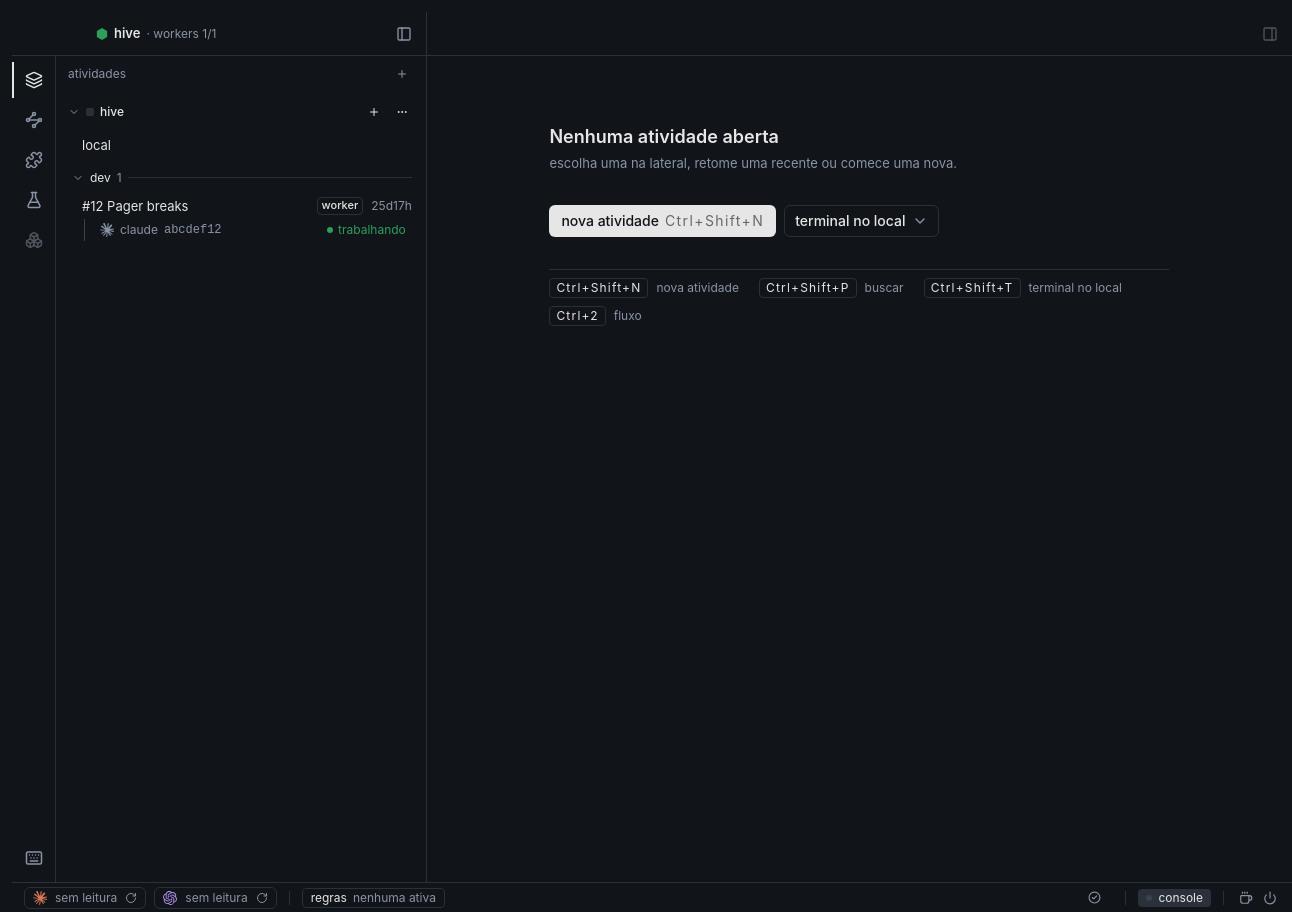
Test: the flow on hive → a repository's issue whose task is roadmap's: back reads fluxo · todas and shows every source, so the task is in it (#380)
Click the button named "fluxo".
click(34, 120)  # box [12,102,56,138]
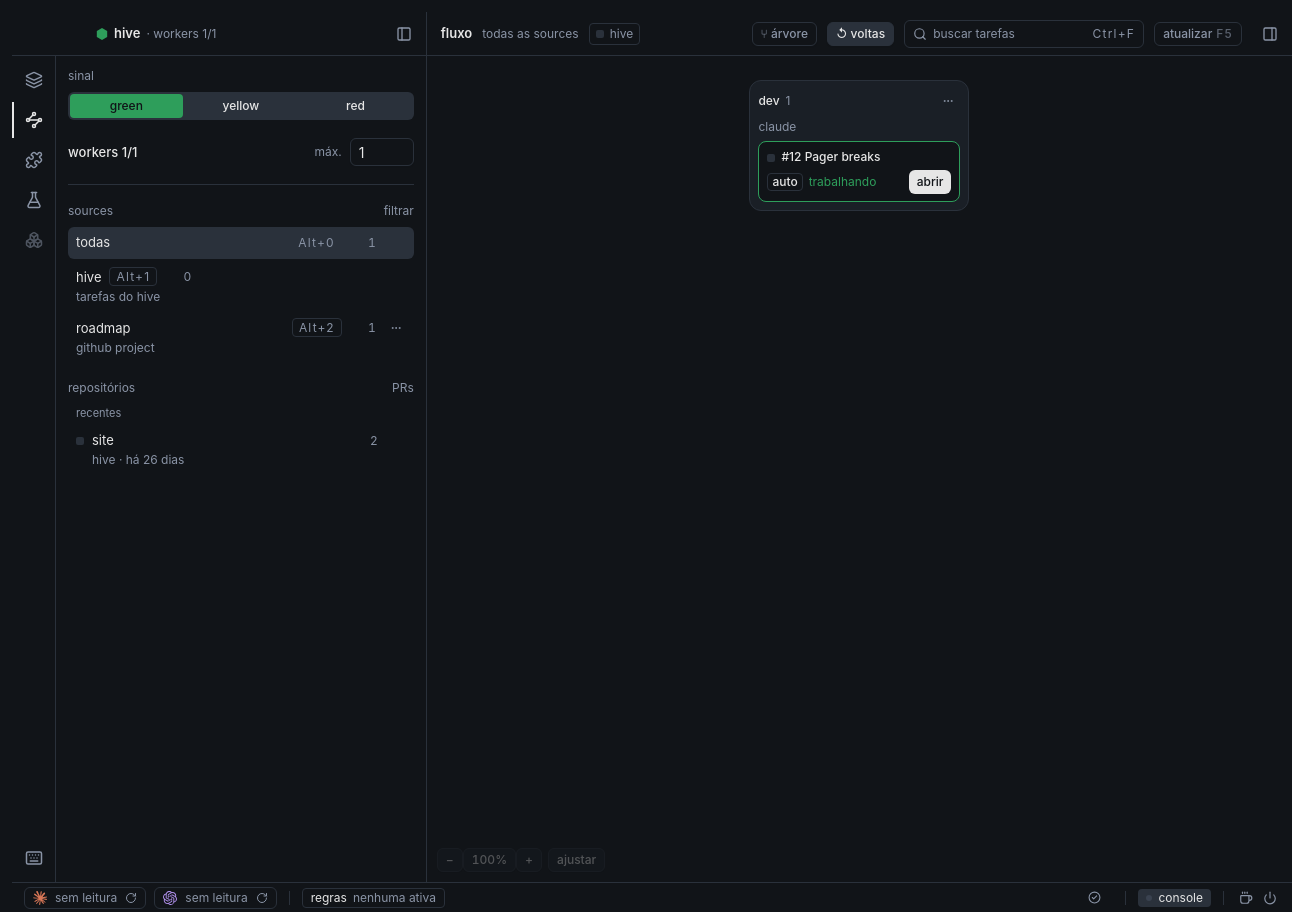
Click the button "hive Alt+1 0 tarefas do hive".
click(133, 276)  # box [68,261,414,311]
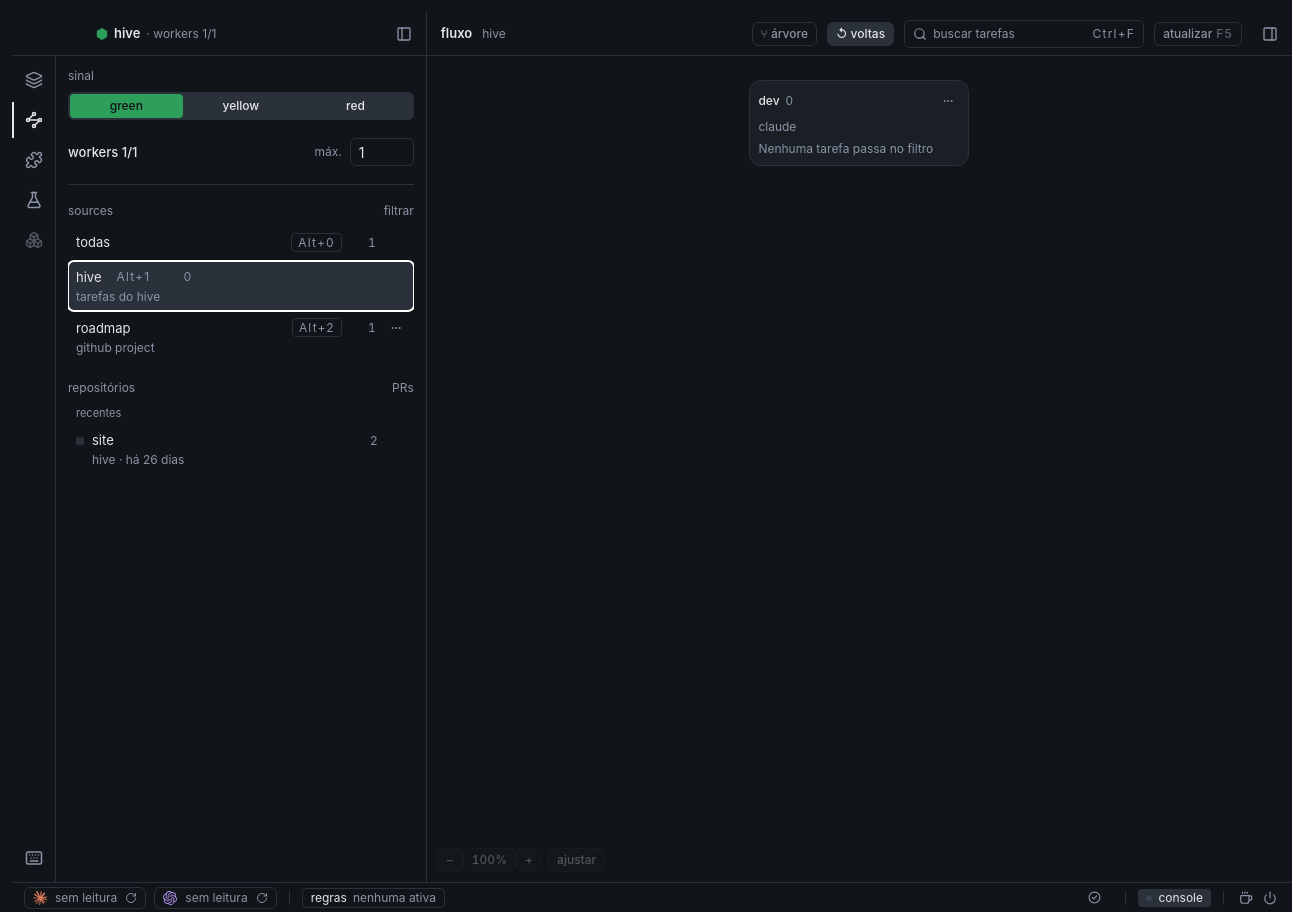
Click the button "site 2 hive · há 26 dias".
click(138, 459)  # box [68,425,414,474]
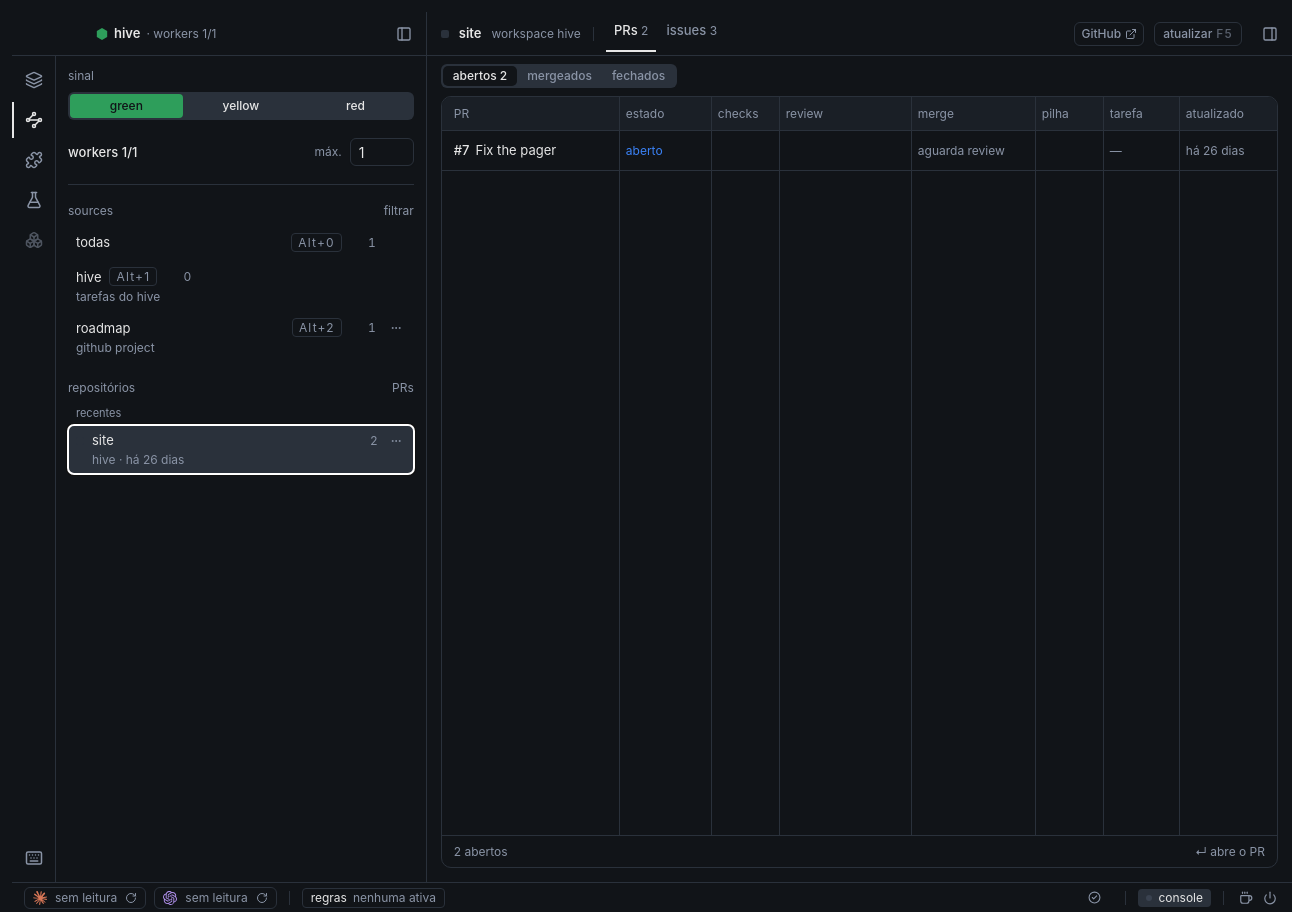
Click the tab "issues 3".
click(692, 32)  # box [658,12,725,52]
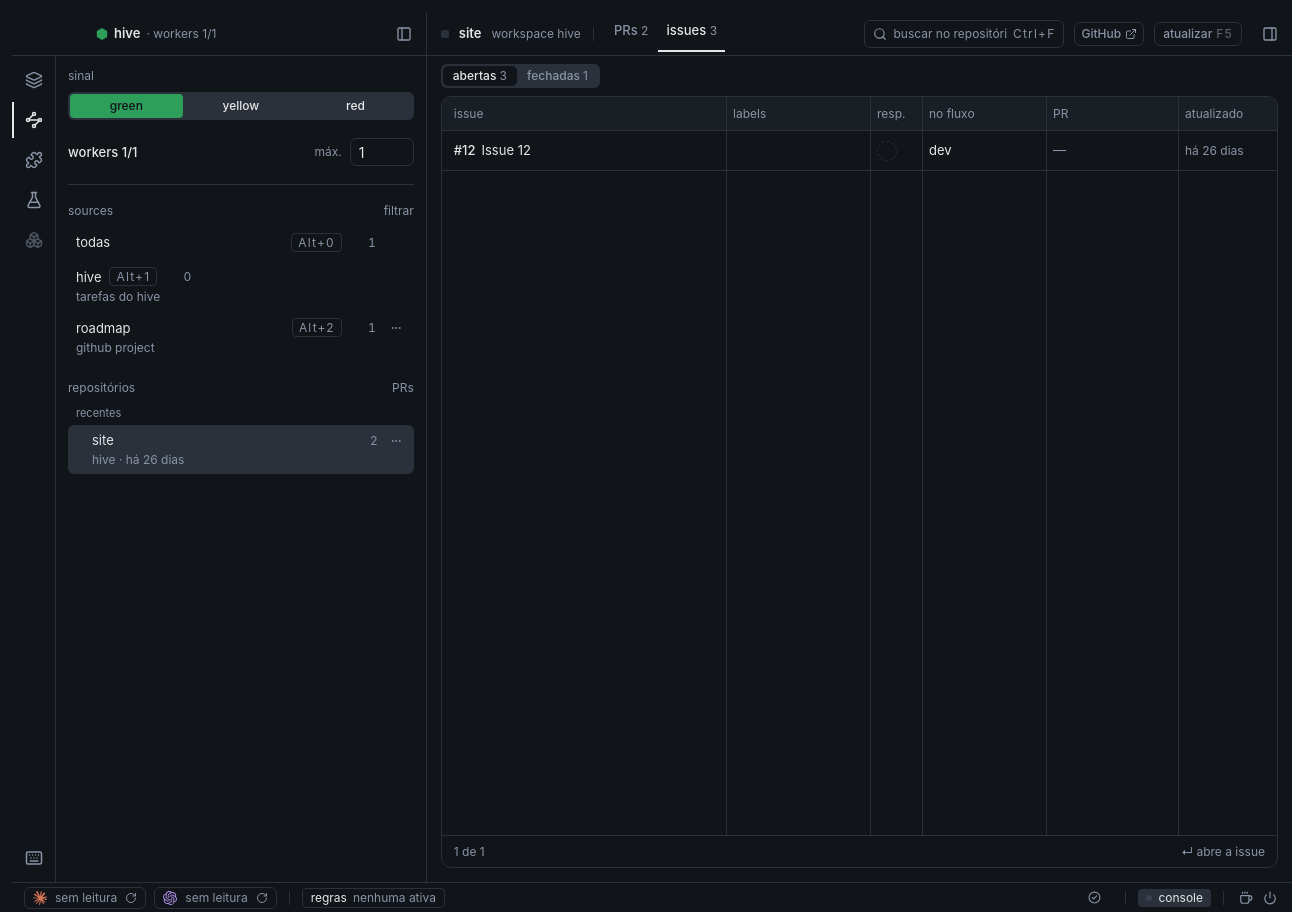
Click the text "Issue 12".
click(506, 150)  # box [482,141,531,160]
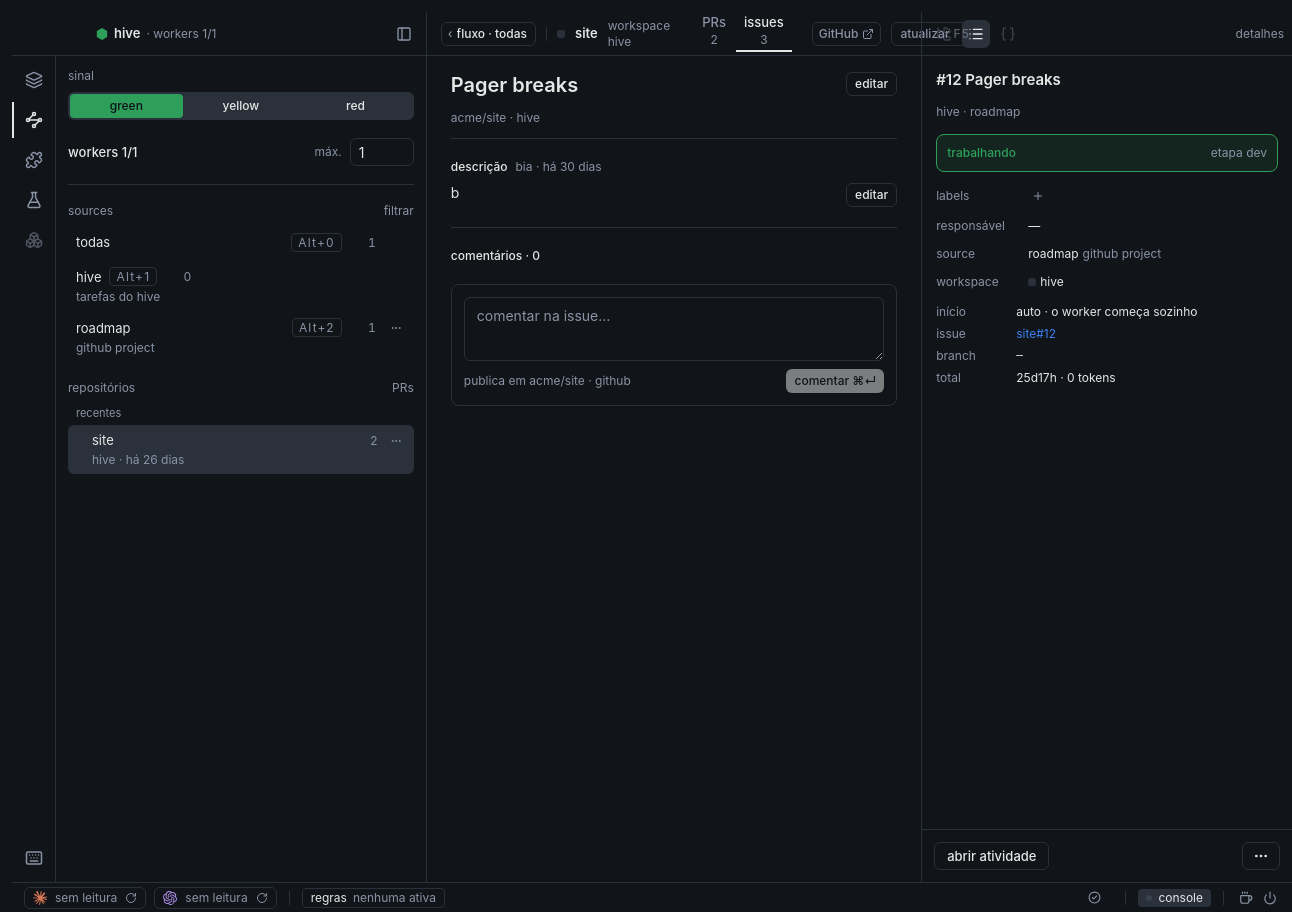
Expected: the heading "Pager breaks" is shown, [451,73,578,97]
Click the button "‹ fluxo · todas".
click(488, 34)  # box [441,22,536,46]
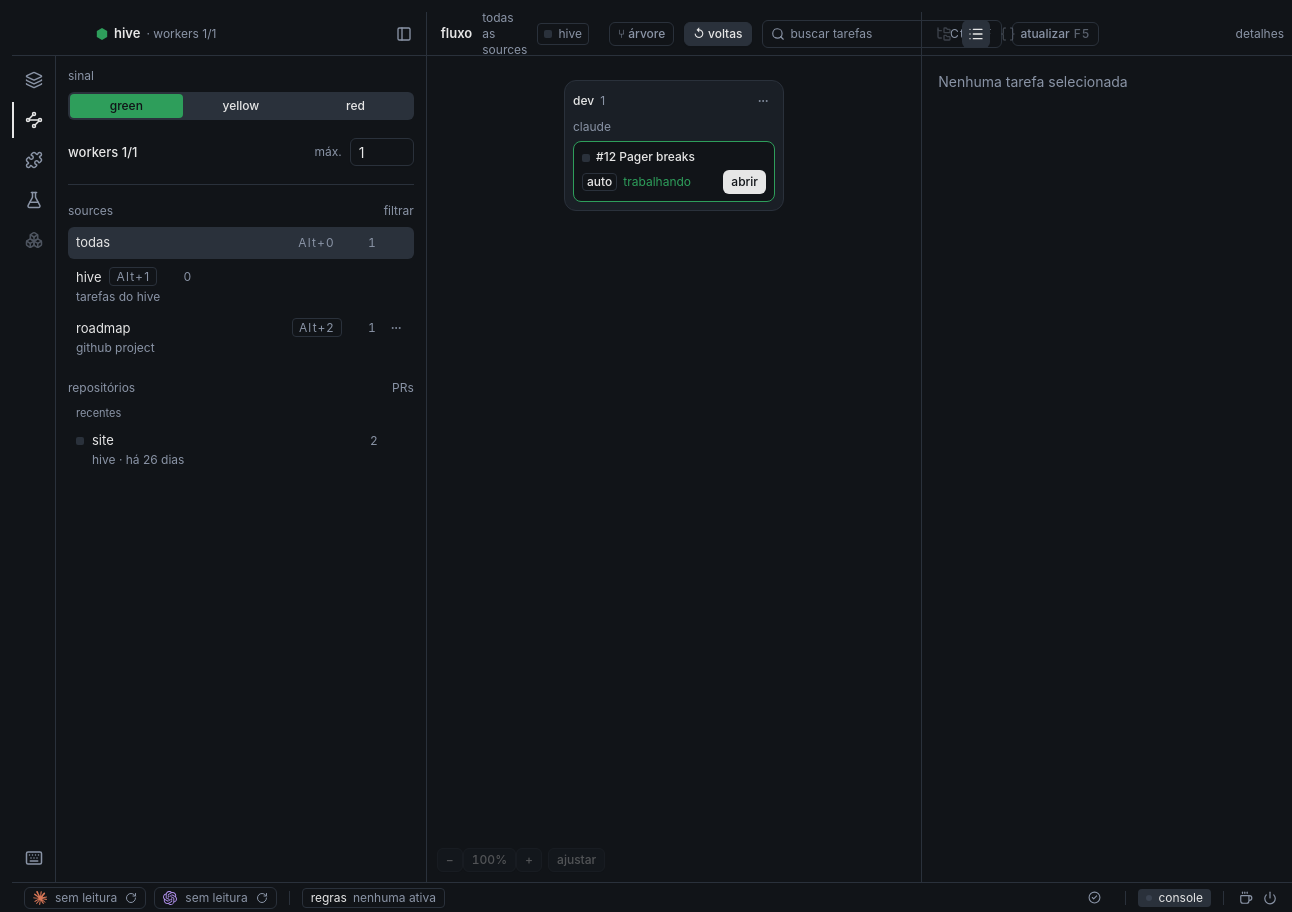
Expected: the text "todas as sources" is shown, [482,12,527,58]
